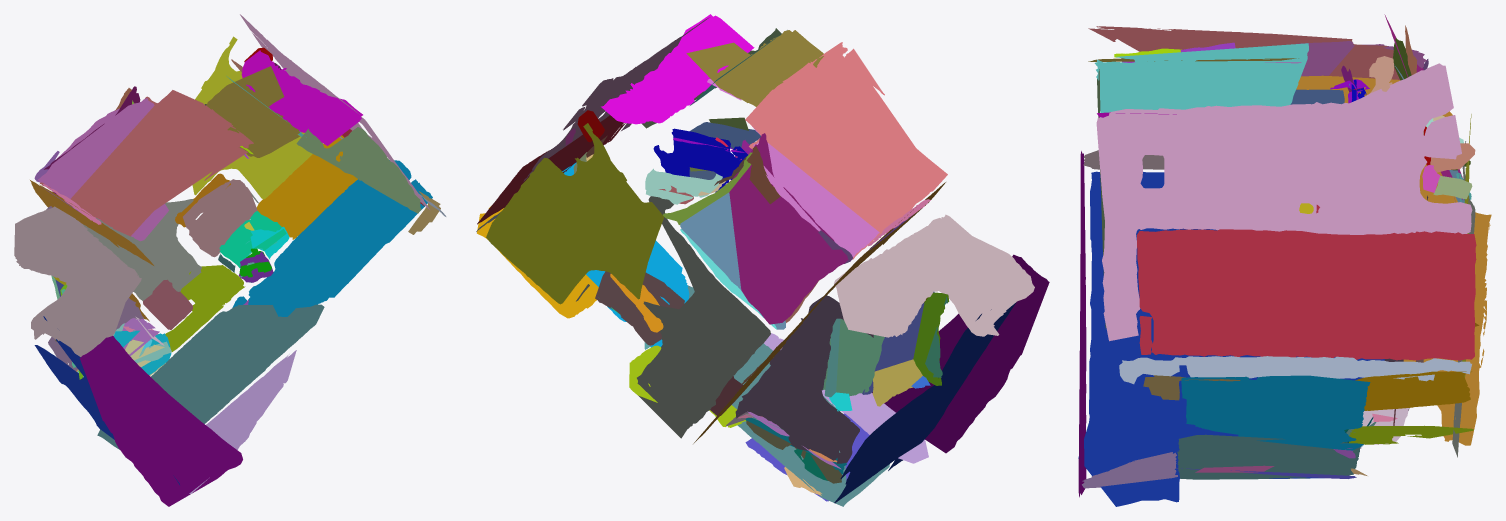
Rendered from office1_np.glb.
The picture shows the model from 3 angles, left to right: view 1: azimuth 30°, elevation 25°; view 2: azimuth 150°, elevation 25°; view 3: azimuth 270°, elevation 25°; orthographic projection. The views are drawn at different scales.
Parts seen in each view (by area): view 1: world; view 2: world; view 3: world.
Boxes of the visible parts, x1,y1,x2,y2 form: world: (14, 14, 446, 506); world: (476, 14, 1049, 506); world: (1078, 14, 1491, 506).
Bounding box in the file's own units: 5 × 4.45 × 2.94.
